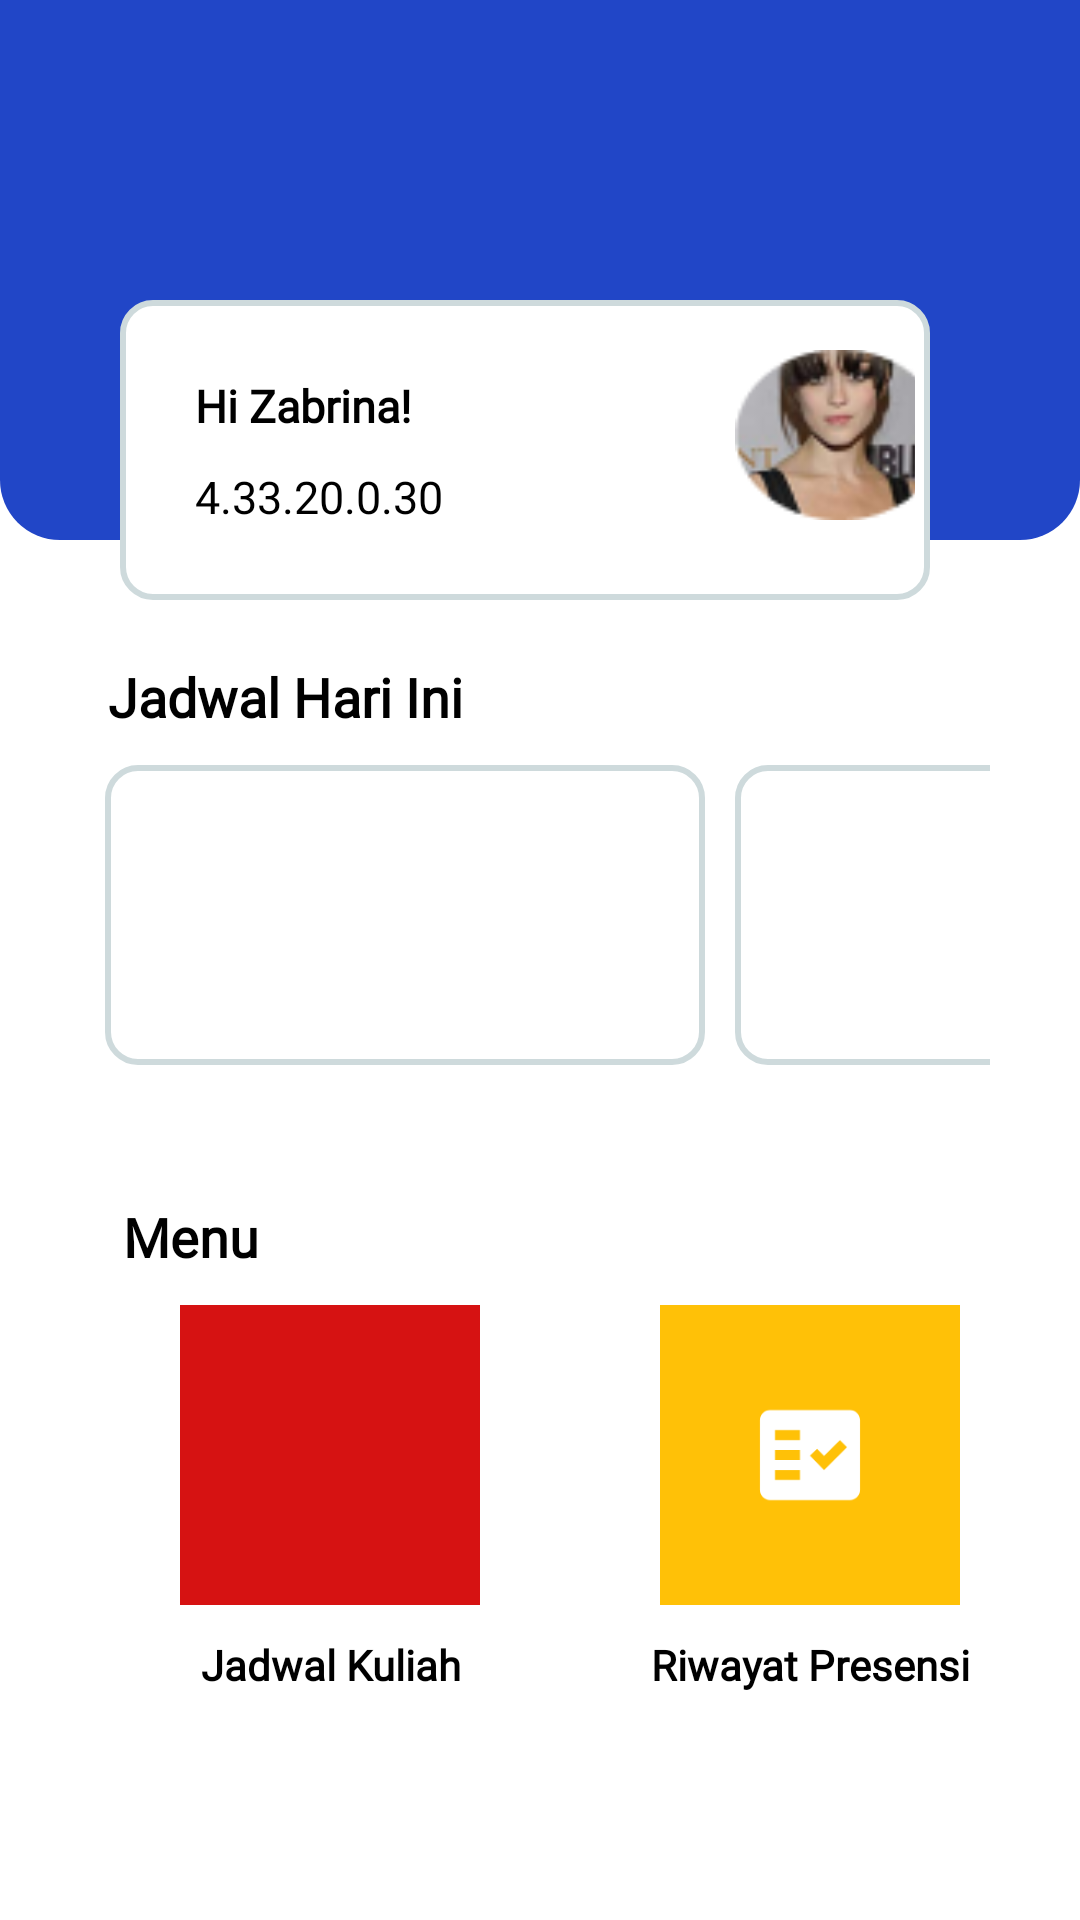

Icons on this 1080x1920 Android screen, each with the point to tap as [x,y]:
fact check: [810,1455]
user: [825,435]
